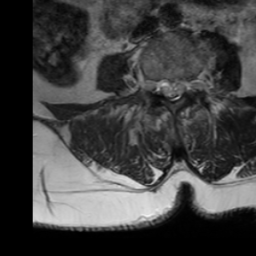CCS_normal: (167, 70, 176, 107)
LFS_normal: (184, 71, 194, 102)
LLS_normal: (176, 71, 184, 103)
RFS_normal: (150, 69, 158, 101)
RLS_normal: (158, 71, 167, 103)
